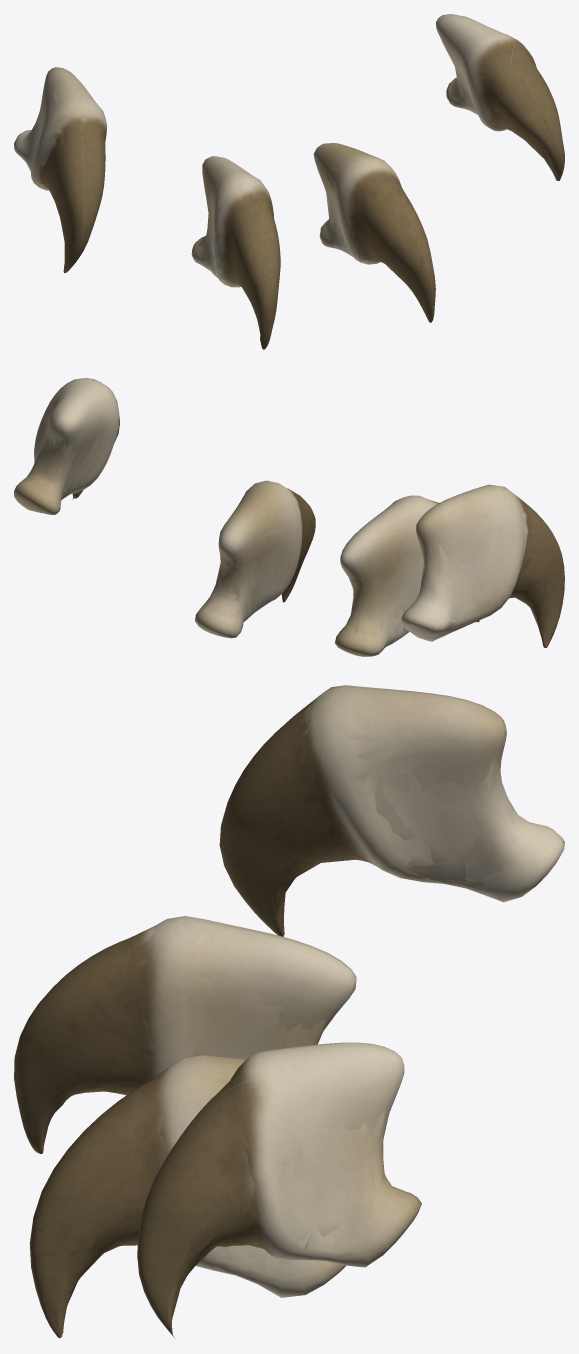
File: BR 3rd Phalanx.fbx
3 renders of one model, top to bottom at view 1: azimuth 30°, elevation 25°; view 2: azimuth 150°, elevation 25°; view 3: azimuth 270°, elevation 25°, orthographic. The views are drawn at different scales.
Parts seen in each view (by area): view 1: BR 3rd Phalanx high, BR 3rd Phalanx, BR 3rd Phalanx low; view 2: BR 3rd Phalanx high, BR 3rd Phalanx low, BR 3rd Phalanx; view 3: BR 3rd Phalanx high, BR 3rd Phalanx low, BR 3rd Phalanx.
Part boxes in pixels (bbox=[...]): BR 3rd Phalanx high: bbox=[14, 14, 564, 349]; BR 3rd Phalanx: bbox=[21, 34, 552, 338]; BR 3rd Phalanx low: bbox=[21, 30, 551, 307]; BR 3rd Phalanx high: bbox=[14, 378, 564, 656]; BR 3rd Phalanx low: bbox=[24, 385, 554, 647]; BR 3rd Phalanx: bbox=[27, 390, 558, 644]; BR 3rd Phalanx high: bbox=[14, 685, 564, 1338]; BR 3rd Phalanx low: bbox=[43, 705, 524, 1323]; BR 3rd Phalanx: bbox=[30, 717, 543, 1334].
Bounding box in the file's own units: 8.35 × 3.93 × 4.71.
